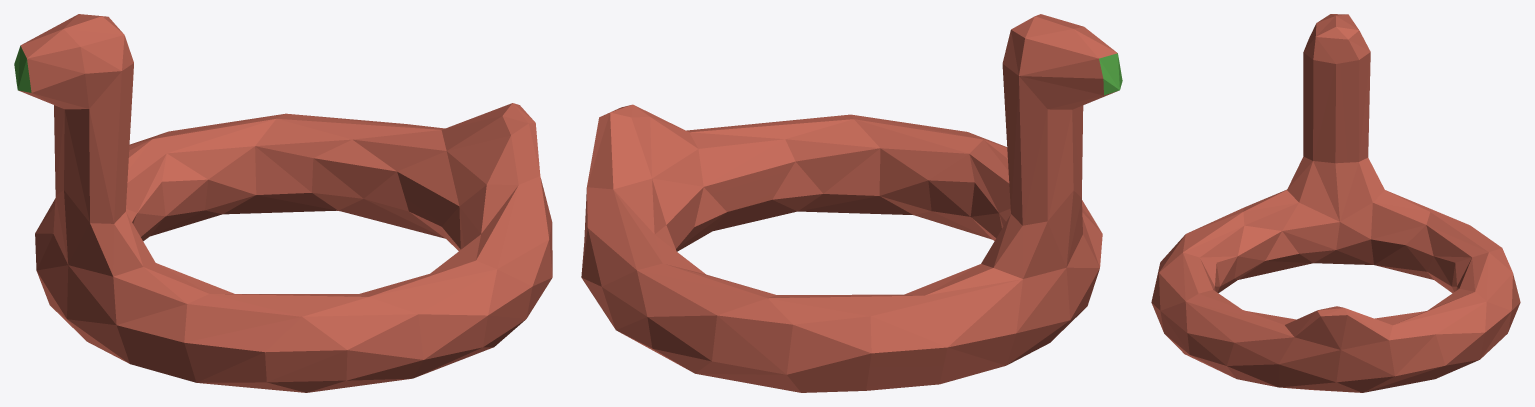
3 renders of one model, left to right at view 1: azimuth 30°, elevation 25°; view 2: azimuth 150°, elevation 25°; view 3: azimuth 270°, elevation 25°, orthographic. The views are drawn at different scales.
Parts seen in each view (by area): view 1: Circle_01; view 2: Circle_01; view 3: Circle_01.
Part boxes in pixels (<box>): Circle_01: <box>14,14,552,392</box>; Circle_01: <box>581,14,1122,392</box>; Circle_01: <box>1151,14,1520,392</box>.
Size of the model in its own units: 61.32 by 37.6 by 54.18.
